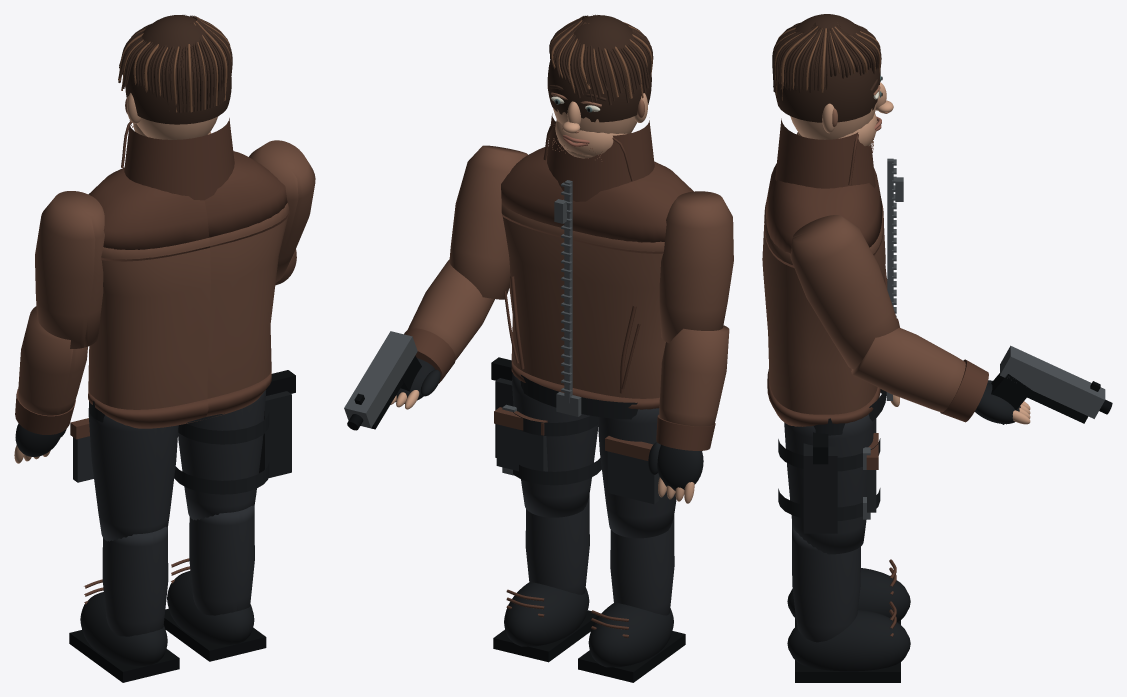
File: survivant.glb
3 views of the same model, side by side, from view 1: azimuth 30°, elevation 25°; view 2: azimuth 150°, elevation 25°; view 3: azimuth 270°, elevation 25° (orthographic). The views are drawn at different scales.
Visible parts, largest first — view 1: Fleece jacket, CastleSurvivor, Thigh (×2), Upper sleeve (×2), Shin (×2), Boot (×2), Elbow, Hair cap, Boot sole (×2), Right hip, Holster, Head skin (+2 smaller); view 2: Fleece jacket, CastleSurvivor, Upper sleeve (×2), Elbow (×2), Thigh (×2), Shin (×2), Boot (×2), Hair cap, Cargo pocket (×2), Right hip, Slide, Boot sole (×2) (+7 smaller); view 3: CastleSurvivor, Fleece jacket, Upper sleeve, Elbow, Boot (×2), Shin, Hair cap, Thigh, Slide, Holster, Right hip, Pistol (+4 smaller).
Boxes of the visible parts, <box> form: Fleece jacket: <box>88,203,289,409</box>; CastleSurvivor: <box>88,118,289,428</box>; Thigh (×2): <box>88,390,266,541</box>; Upper sleeve (×2): <box>35,140,315,348</box>; Shin (×2): <box>102,505,254,636</box>; Boot (×2): <box>80,571,254,665</box>; Elbow: <box>15,306,87,437</box>; Hair cap: <box>125,15,231,124</box>; Boot sole (×2): <box>69,608,266,682</box>; Right hip: <box>174,370,295,494</box>; Holster: <box>259,391,291,477</box>; Head skin: <box>137,116,217,139</box>; Fleece jacket: <box>501,204,665,398</box>; CastleSurvivor: <box>501,113,693,419</box>; Upper sleeve (×2): <box>449,145,733,343</box>; Elbow (×2): <box>404,259,729,474</box>; Thigh (×2): <box>512,372,676,538</box>; Shin (×2): <box>525,495,674,615</box>; Boot (×2): <box>504,582,673,667</box>; Hair cap: <box>547,15,651,122</box>; Cargo pocket (×2): <box>496,424,658,504</box>; Right hip: <box>491,357,601,485</box>; Slide: <box>344,331,417,428</box>; Boot sole (×2): <box>493,610,685,682</box>; CastleSurvivor: <box>764,118,903,435</box>; Fleece jacket: <box>762,201,885,414</box>; Upper sleeve: <box>790,215,899,369</box>; Elbow: <box>851,327,992,422</box>; Boot (×2): <box>787,568,910,671</box>; Shin: <box>792,524,860,642</box>; Hair cap: <box>775,14,880,122</box>; Thigh: <box>784,414,874,554</box>; Slide: <box>1000,345,1105,418</box>; Holster: <box>803,443,837,533</box>; Right hip: <box>778,432,880,520</box>; Pistol: <box>991,373,1112,424</box>.
Bounding box in the file's own units: 0.936 × 2.05 × 1.02.
